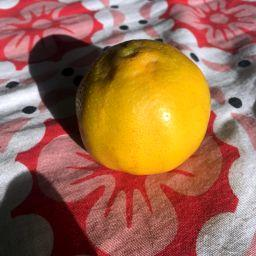Ripe: (77, 41, 213, 174)
